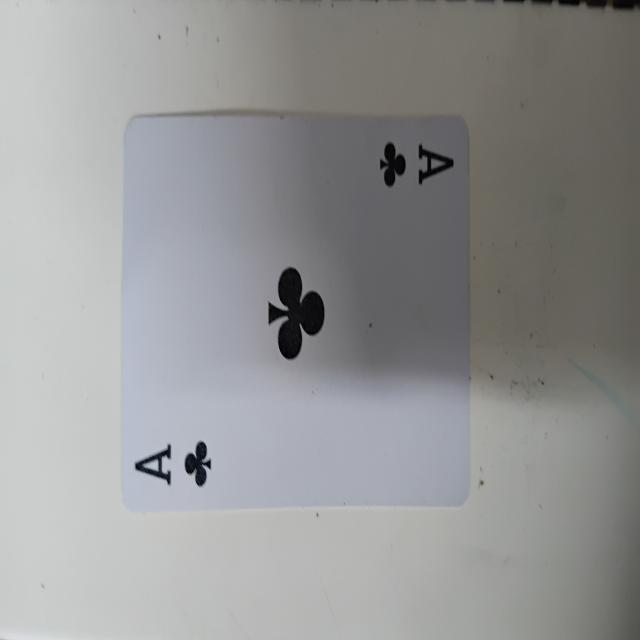AC: (124, 118, 470, 504)
